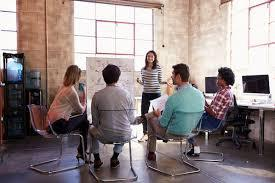Person: (146, 63, 206, 166), (89, 64, 136, 171), (183, 66, 235, 159), (45, 64, 89, 168), (137, 50, 168, 145)
